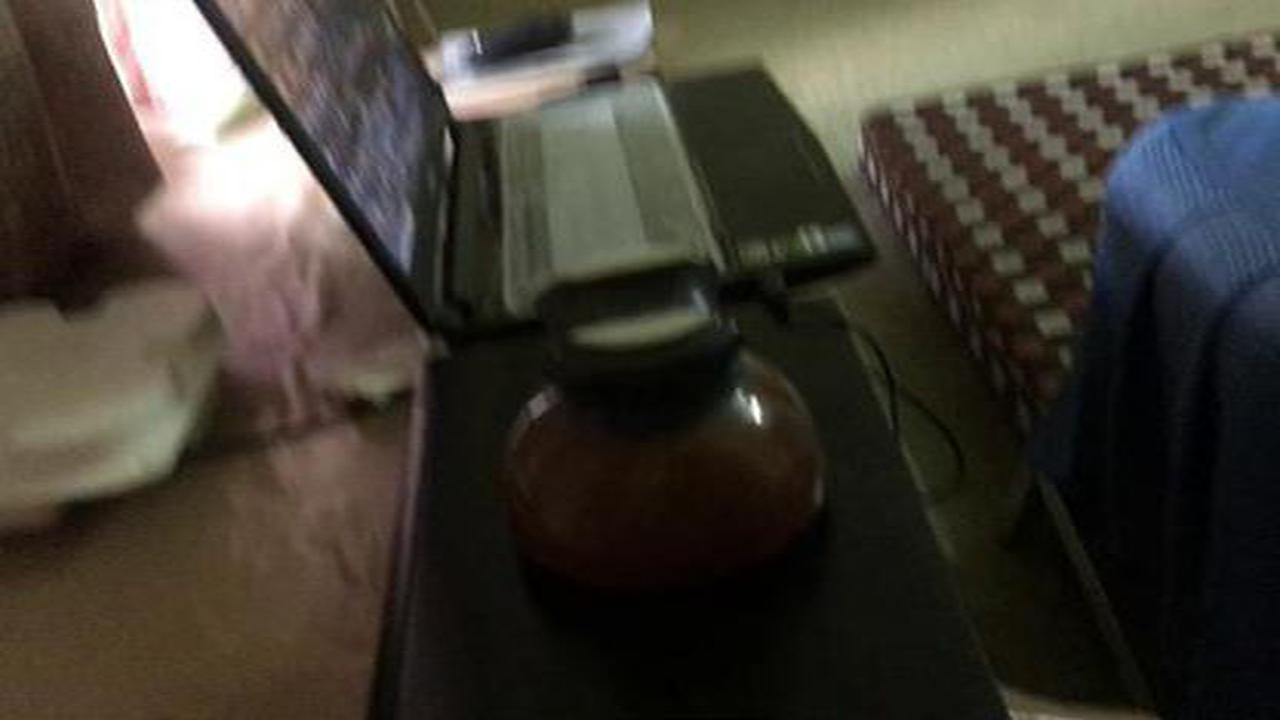insulator_pin: (474, 233, 850, 608)
